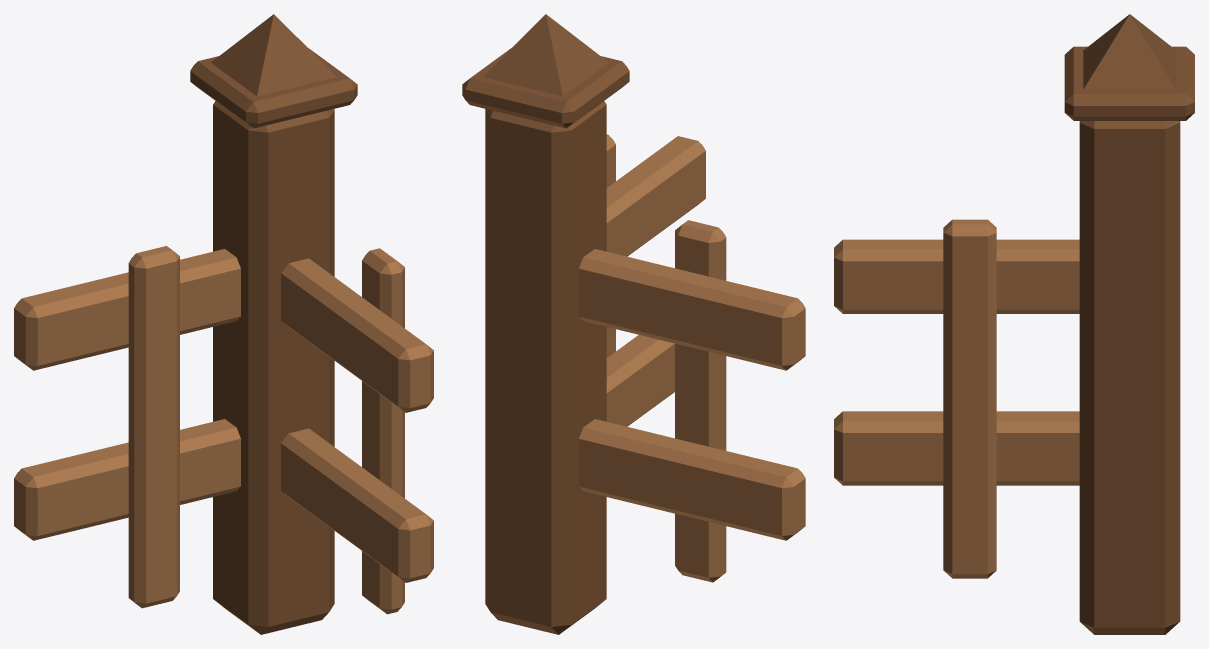
The model's file is fence_corner.glb.
3 views of the same model, side by side, from view 1: azimuth 30°, elevation 25°; view 2: azimuth 150°, elevation 25°; view 3: azimuth 270°, elevation 25° (orthographic).
Visible parts, largest first — view 1: fence_corner; view 2: fence_corner; view 3: fence_corner.
Part boxes in pixels (<box>): fence_corner: <box>14,14,433,634</box>; fence_corner: <box>462,14,805,634</box>; fence_corner: <box>834,14,1194,634</box>.
Size of the model in its own units: 0.61 by 1.13 by 0.61.
